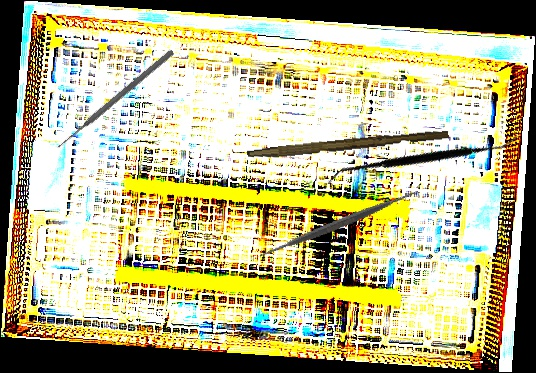Pusher: (54, 47, 176, 152)
Scalpel Handle: (246, 125, 450, 165)
Spatula Surgical: (326, 66, 520, 254), (249, 134, 428, 313)
